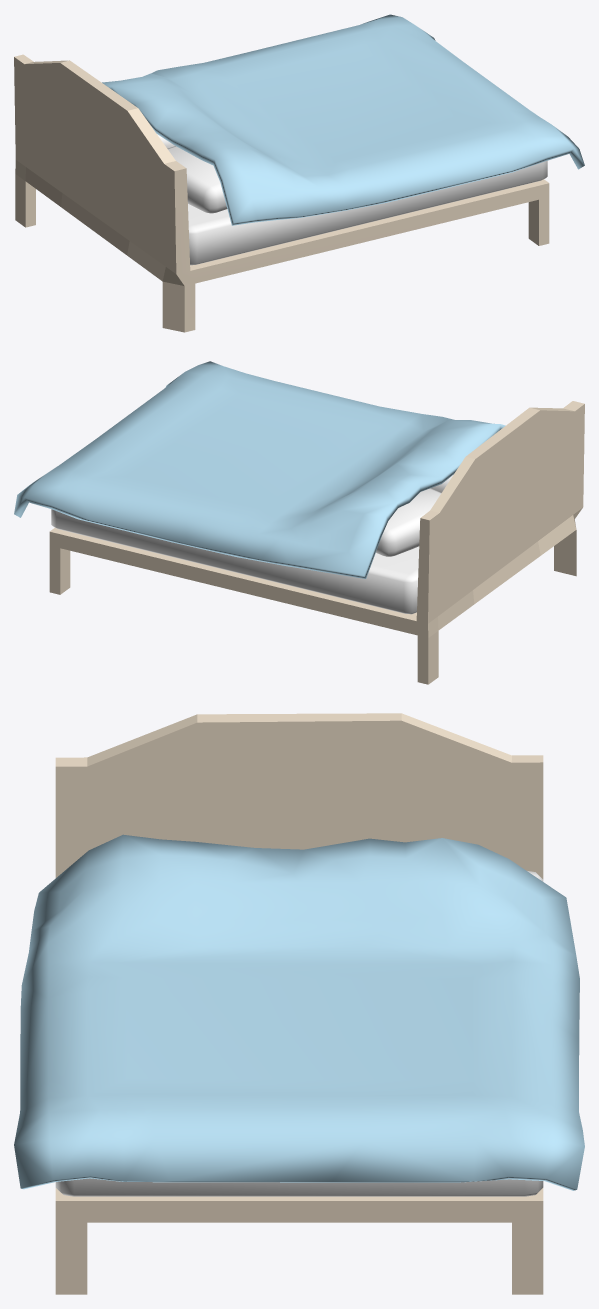
Rendered from bed.fbx.
The picture shows the model from 3 angles, top to bottom: view 1: azimuth 30°, elevation 25°; view 2: azimuth 150°, elevation 25°; view 3: azimuth 270°, elevation 25°; orthographic projection. The views are drawn at different scales.
Visible parts, largest first — view 1: duvet, Bed, bed, pillow_001; view 2: duvet, Bed, bed, pillow; view 3: duvet, Bed, bed.
Boxes of the visible parts, bbox=[...] form: duvet: bbox=[102, 14, 584, 225]; Bed: bbox=[14, 54, 549, 332]; bed: bbox=[188, 160, 547, 265]; pillow_001: bbox=[167, 146, 227, 213]; duvet: bbox=[14, 361, 505, 578]; Bed: bbox=[49, 401, 584, 684]; bed: bbox=[51, 509, 419, 614]; pillow: bbox=[376, 488, 441, 556]; duvet: bbox=[14, 834, 584, 1190]; Bed: bbox=[55, 713, 543, 1294]; bed: bbox=[55, 871, 543, 1196].
Size of the model in its own units: 337 by 150 by 263.
